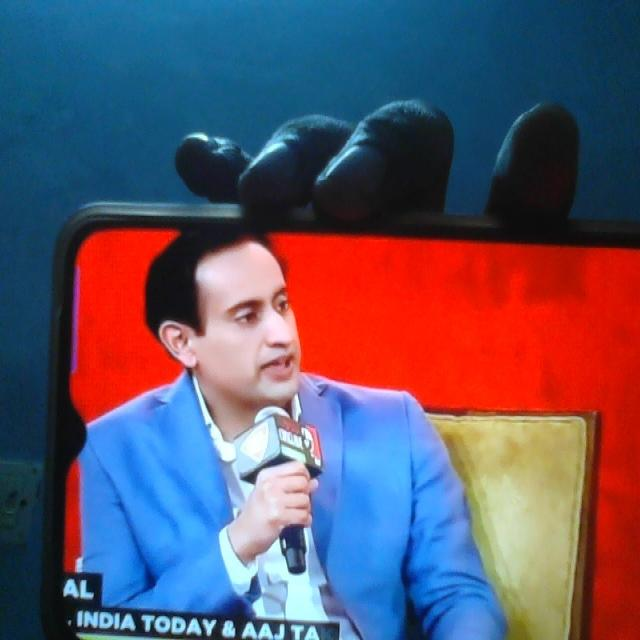fake: (185, 198, 303, 422)
